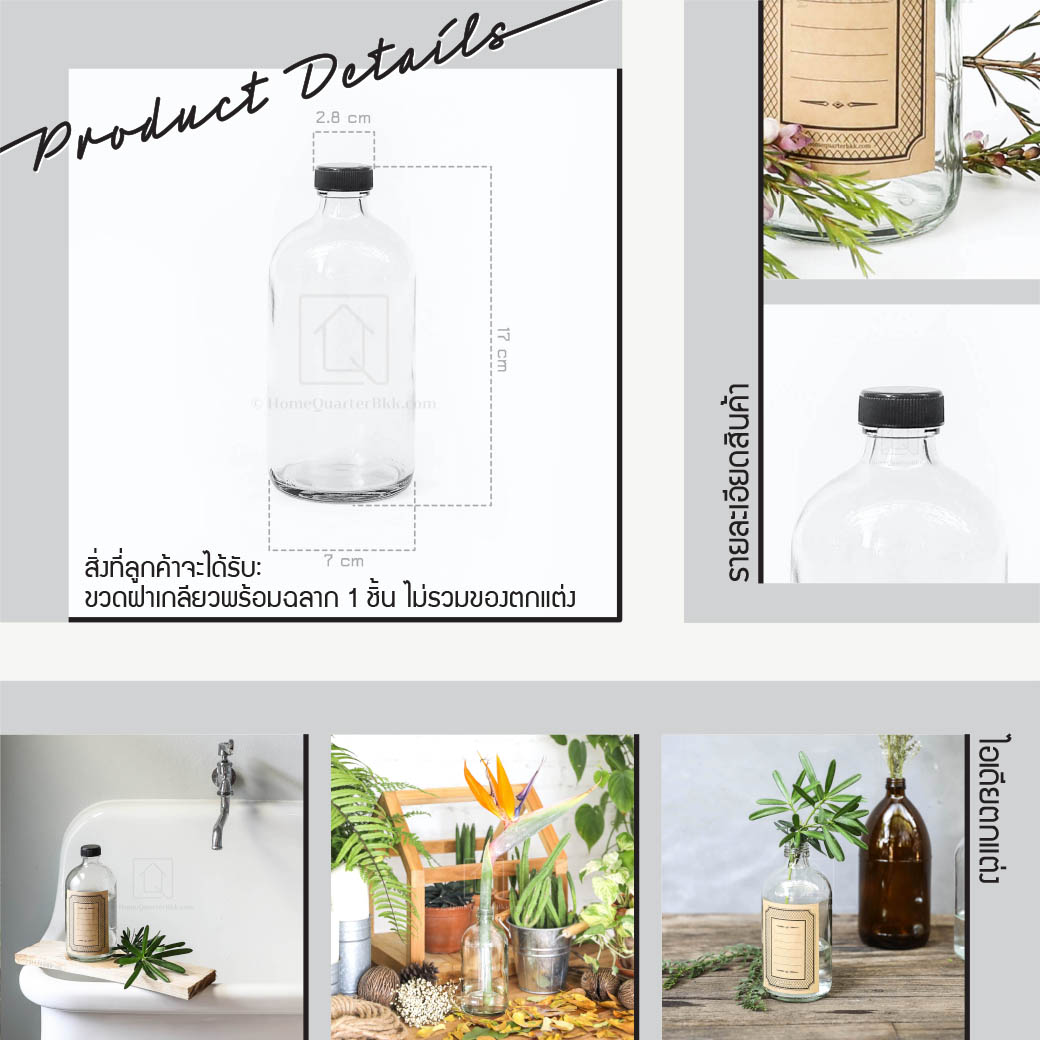glass_bottleww: (188, 89, 492, 583), (726, 11, 1000, 293), (785, 356, 1013, 646), (820, 729, 947, 1002), (39, 764, 160, 1035), (730, 766, 847, 1012), (434, 845, 541, 1025)
